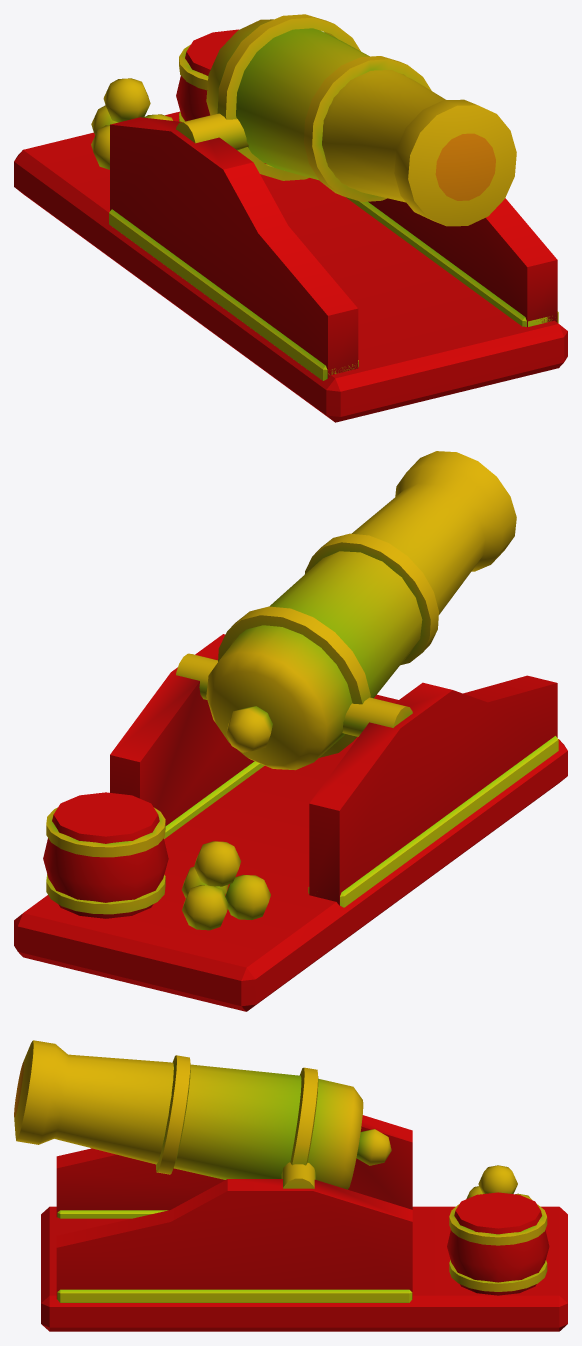
File: PirateCannon.glb
The picture shows the model from 3 angles, top to bottom: view 1: azimuth 30°, elevation 25°; view 2: azimuth 150°, elevation 25°; view 3: azimuth 270°, elevation 25°; orthographic projection. The views are drawn at different scales.
Visible parts, largest first — view 1: PirateCannon; view 2: PirateCannon; view 3: PirateCannon.
Boxes of the visible parts, x1,y1,x2,y2 form: PirateCannon: [14, 14, 567, 422]; PirateCannon: [14, 451, 567, 1011]; PirateCannon: [14, 1040, 567, 1331].
Size of the model in its own units: 1.4 by 1.64 by 3.4.
